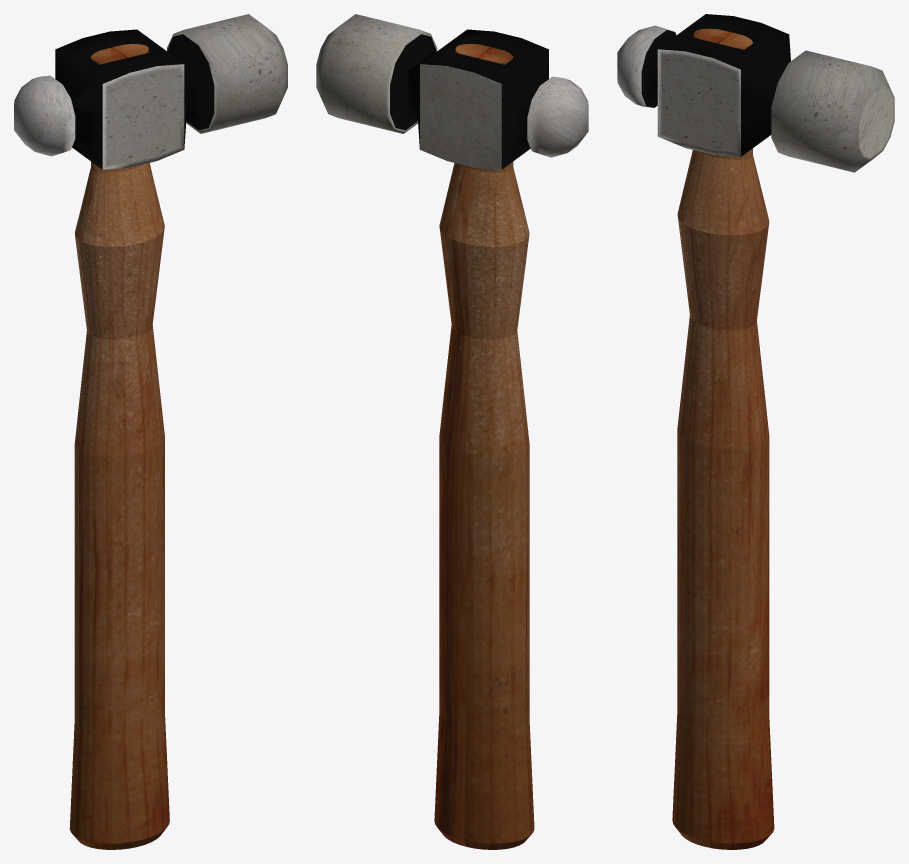
The model's file is hammer.glb.
The picture shows the model from 3 angles, left to right: view 1: azimuth 30°, elevation 25°; view 2: azimuth 150°, elevation 25°; view 3: azimuth 330°, elevation 25°; orthographic projection.
Parts seen in each view (by area): view 1: Cylinder, Cube; view 2: Cylinder, Cube; view 3: Cylinder, Cube.
Boxes of the visible parts, <box> form: Cylinder: <box>69,44,169,849</box>; Cube: <box>14,14,287,169</box>; Cylinder: <box>434,44,534,849</box>; Cube: <box>316,14,588,169</box>; Cylinder: <box>672,28,774,849</box>; Cube: <box>617,14,894,172</box>.
Size of the model in its own units: 1.62 by 4.86 by 0.5718.
3 materials, 2 textured.
